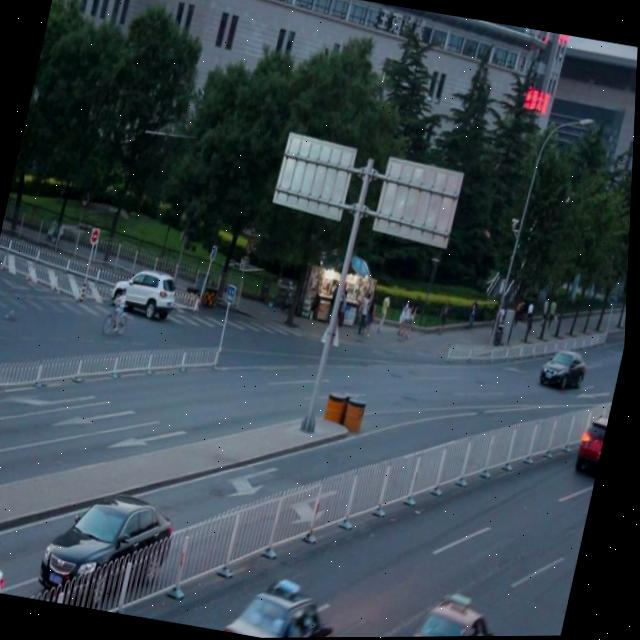car: (38, 479, 186, 608), (227, 568, 346, 639), (404, 587, 510, 638), (110, 262, 182, 322), (539, 340, 592, 394), (573, 408, 614, 473), (0, 529, 20, 593)
